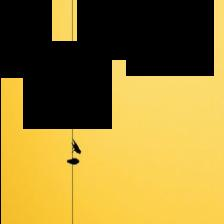yellow: (72, 1, 224, 224), (0, 1, 70, 224)
